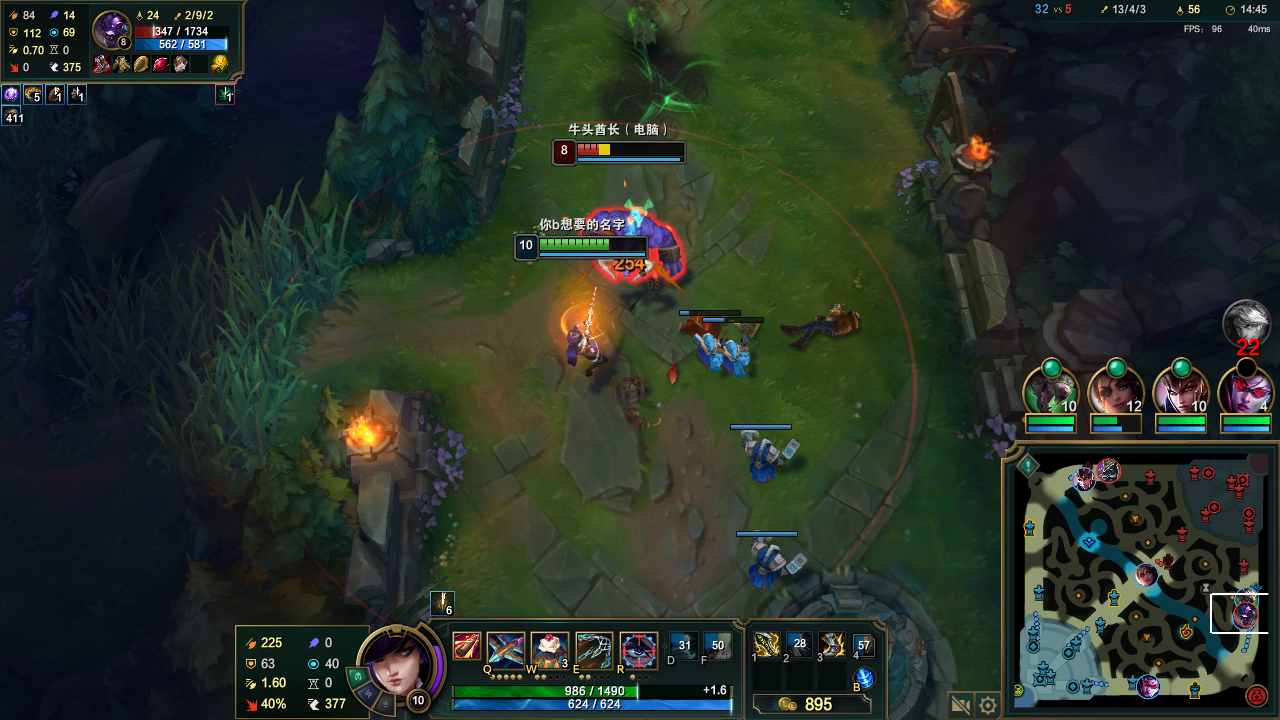DFYX: (575, 144, 681, 158)
WFXB: (739, 543, 803, 593), (745, 435, 792, 488), (717, 339, 751, 374), (694, 328, 718, 366)
